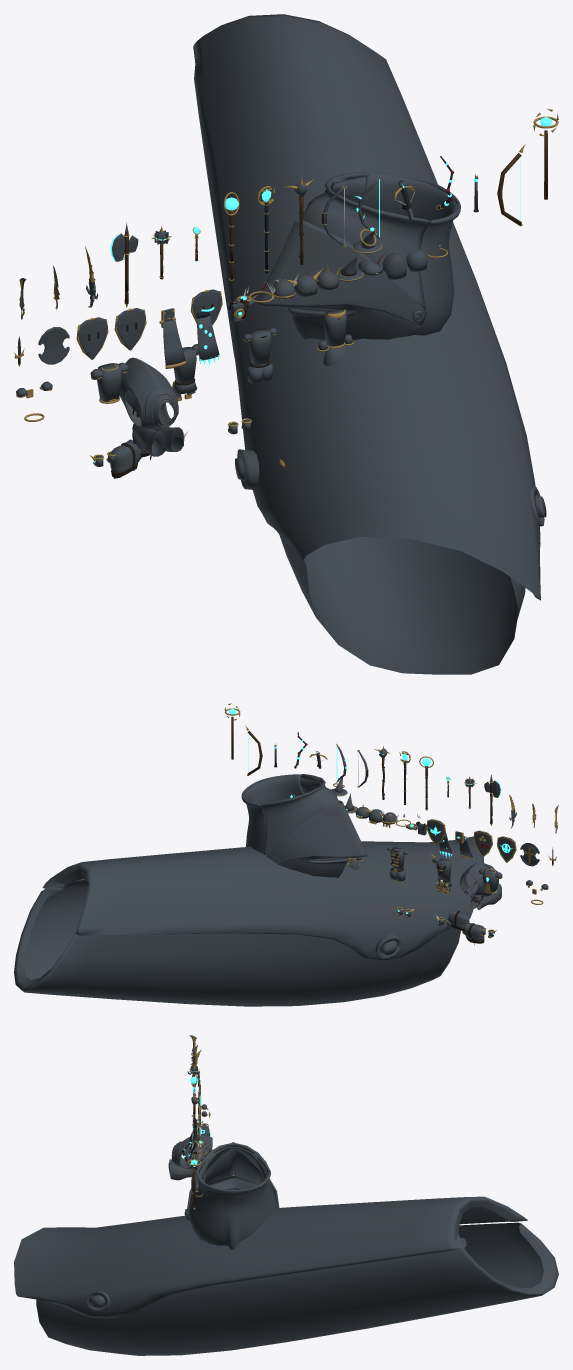
The model's file is gear.glb.
The picture shows the model from 3 angles, top to bottom: view 1: azimuth 30°, elevation 25°; view 2: azimuth 150°, elevation 25°; view 3: azimuth 270°, elevation 25°; orthographic projection. The views are drawn at different scales.
Parts seen in each view (by area): view 1: Gear_gloves_R_01_gear_primary, Gear_helm_01_gear_primary, Gear_plate-body_torso_01_gear_primary, Gear_kiteshield_01_gear_primary, Gear_elysian_01_gear_primary, Gear_hylian-shield_01_gear_primary, Gear_trim-plate_torso_05_gear_primary; view 2: Gear_gloves_R_01_gear_primary, Gear_helm_01_gear_primary, Gear_plate-body_torso_01_gear_primary; view 3: Gear_gloves_R_01_gear_primary, Gear_helm_01_gear_primary, Gear_plate-body_torso_01_gear_primary.
Part boxes in pixels (<box>): Gear_gloves_R_01_gear_primary: <box>193,14,546,674</box>; Gear_helm_01_gear_primary: <box>257,171,460,340</box>; Gear_plate-body_torso_01_gear_primary: <box>119,357,178,429</box>; Gear_kiteshield_01_gear_primary: <box>38,327,69,364</box>; Gear_elysian_01_gear_primary: <box>77,317,107,359</box>; Gear_hylian-shield_01_gear_primary: <box>115,308,145,350</box>; Gear_trim-plate_torso_05_gear_primary: <box>97,363,121,401</box>; Gear_gloves_R_01_gear_primary: <box>14,836,483,1006</box>; Gear_helm_01_gear_primary: <box>241,774,367,877</box>; Gear_plate-body_torso_01_gear_primary: <box>459,862,498,896</box>; Gear_gloves_R_01_gear_primary: <box>14,1196,558,1355</box>; Gear_helm_01_gear_primary: <box>184,1142,279,1249</box>; Gear_plate-body_torso_01_gear_primary: <box>171,1135,212,1168</box>.
Size of what is drawn, in the model's own units: 13.39 by 9.62 by 19.01.
